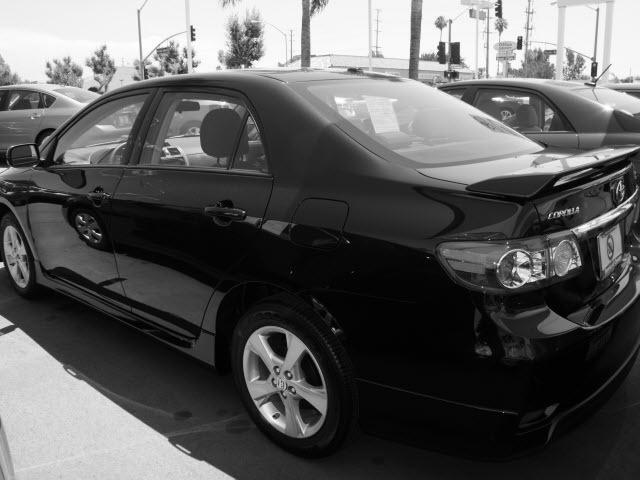car: (1, 54, 638, 480)
